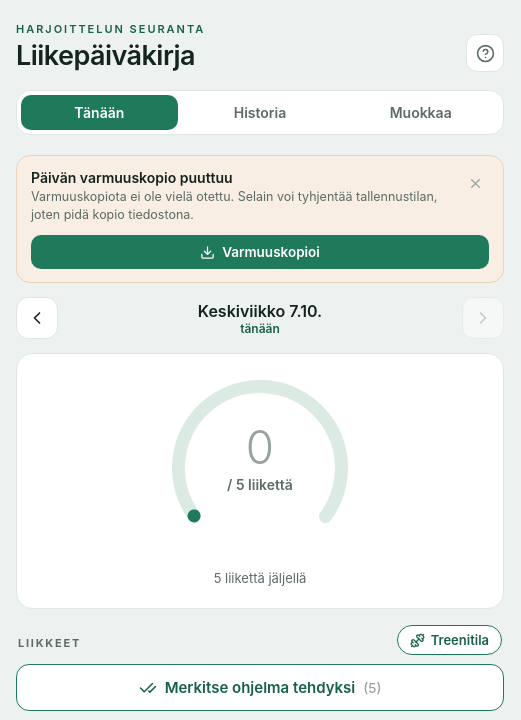
offline settings › shows the running version and offers a way to switch offline off
Click the button "Muokkaa" at coordinates (421, 112), box x1=342 y1=95 x2=499 y2=130
(page scrolled)
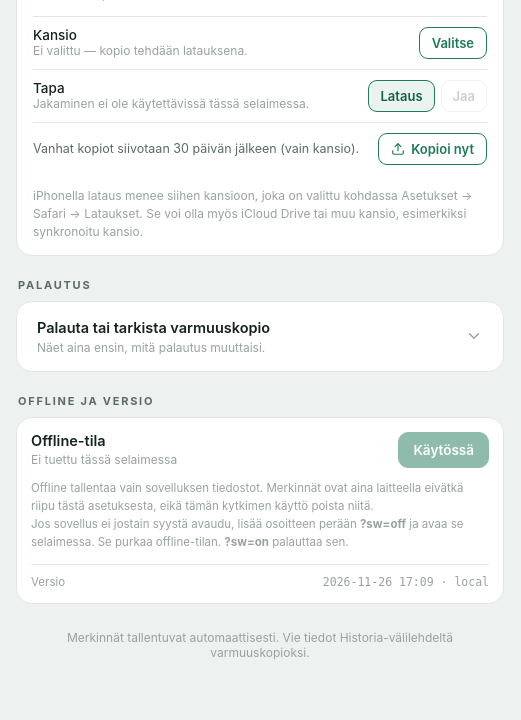
Check: the text "Offline ja versio" is shown, box x1=18 y1=394 x2=154 y2=408
Check: the text "Versio" is shown, box x1=31 y1=574 x2=65 y2=588
Check: the text "Ei tuettu tässä selaimessa" is shown, box x1=31 y1=452 x2=177 y2=467
